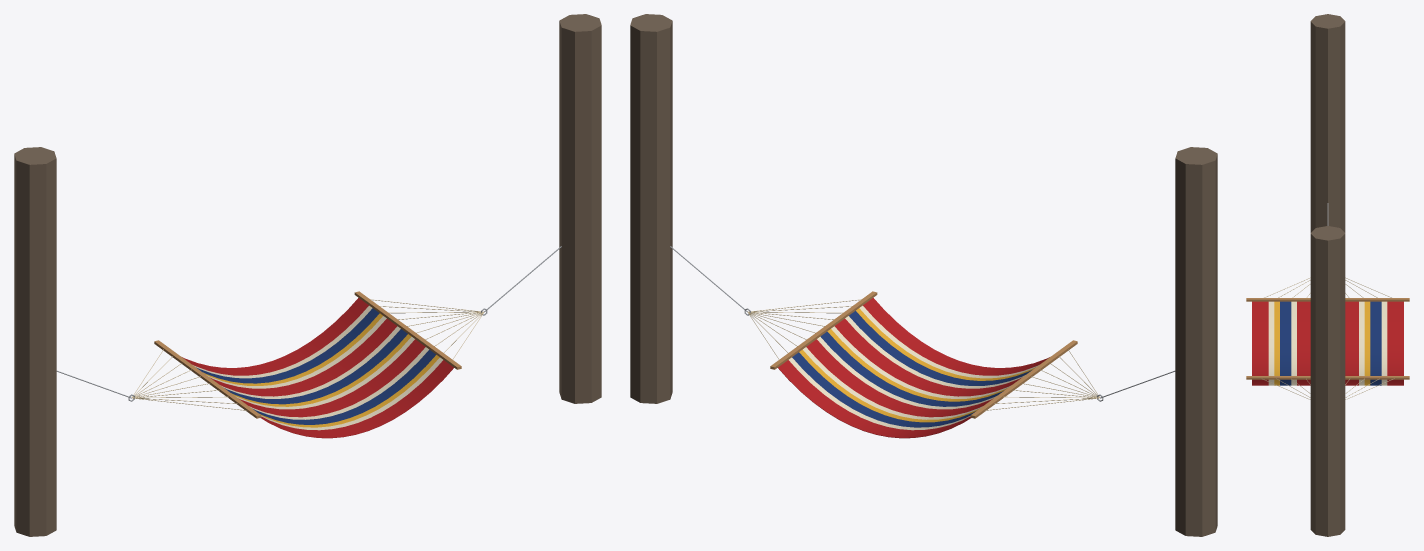
Rendered from hammock_spreader_canvas.mid.glb.
3 renders of one model, left to right at view 1: azimuth 30°, elevation 25°; view 2: azimuth 150°, elevation 25°; view 3: azimuth 270°, elevation 25°, orthographic. The views are drawn at different scales.
Visible parts, largest first — view 1: hammock_spreader_canvas, bed_hammock_spreader_canvas; view 2: hammock_spreader_canvas, bed_hammock_spreader_canvas; view 3: hammock_spreader_canvas, bed_hammock_spreader_canvas.
Boxes of the visible parts, x1,y1,x2,y2 form: hammock_spreader_canvas: (14, 14, 601, 536); bed_hammock_spreader_canvas: (56, 246, 561, 438); hammock_spreader_canvas: (630, 14, 1217, 536); bed_hammock_spreader_canvas: (670, 246, 1175, 438); hammock_spreader_canvas: (1310, 14, 1345, 536); bed_hammock_spreader_canvas: (1246, 203, 1409, 399).
Bounding box in the file's own units: 4.92 × 3 × 1.5.
